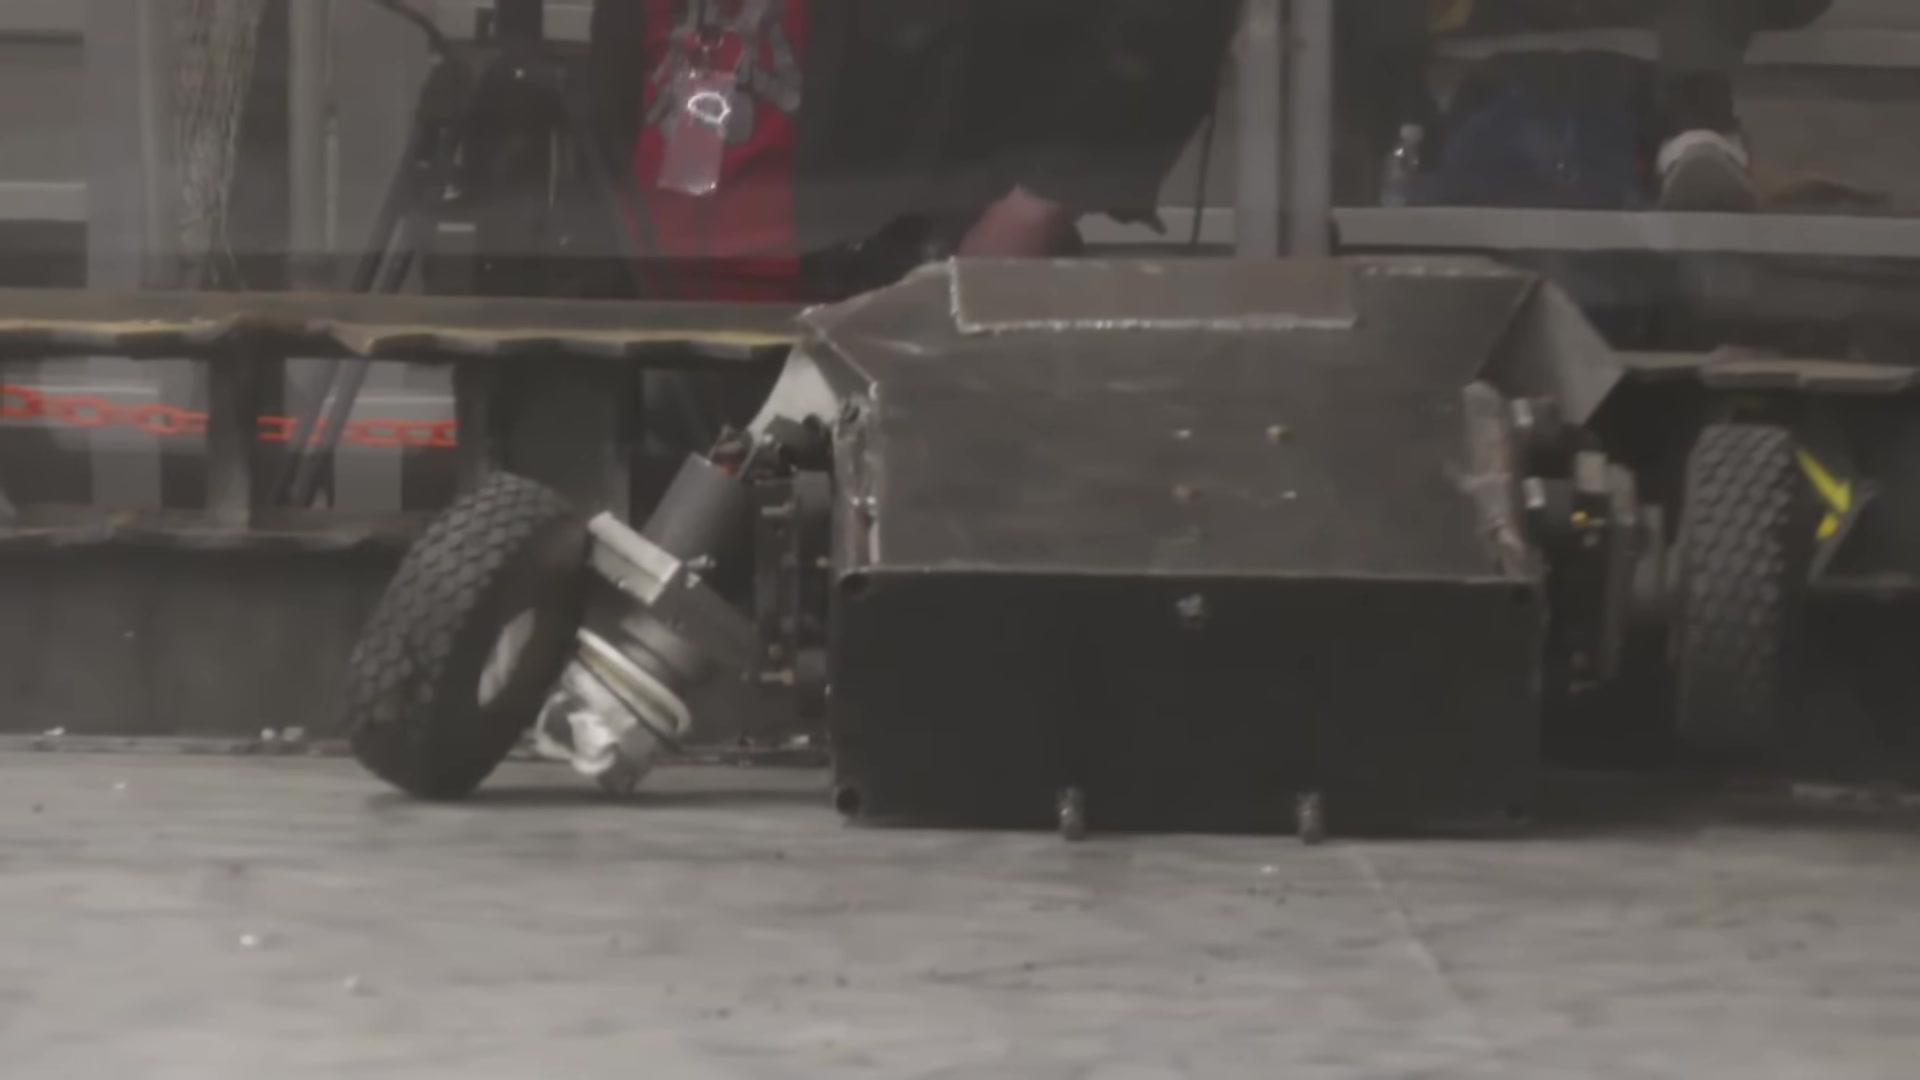combatbot: (583, 251, 1800, 832)
wheel: (339, 456, 569, 801)
